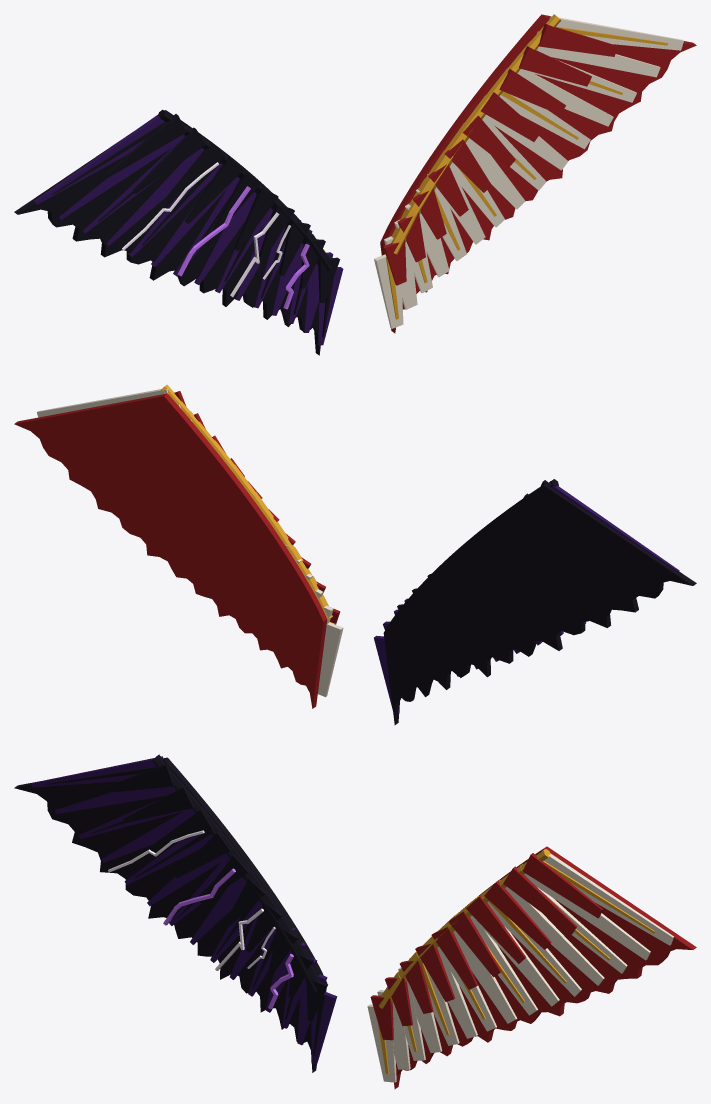
Rendered from DuelWings_Game.fbx.
3 renders of one model, top to bottom at view 1: azimuth 30°, elevation 25°; view 2: azimuth 150°, elevation 25°; view 3: azimuth 330°, elevation 25°, orthographic.
Visible parts, largest first — view 1: DuelWings_Wings, DuelWings_Bolts; view 2: DuelWings_Wings; view 3: DuelWings_Wings, DuelWings_Bolts.
Part boxes in pixels (<box>): DuelWings_Wings: <box>14,14,696,355</box>; DuelWings_Bolts: <box>122,162,309,309</box>; DuelWings_Wings: <box>14,384,696,725</box>; DuelWings_Wings: <box>14,754,696,1089</box>; DuelWings_Bolts: <box>108,830,293,1009</box>.
Bounding box in the file's own units: 9.8 × 3.89 × 0.3244.
Materials: 1 (1 with a texture image).
